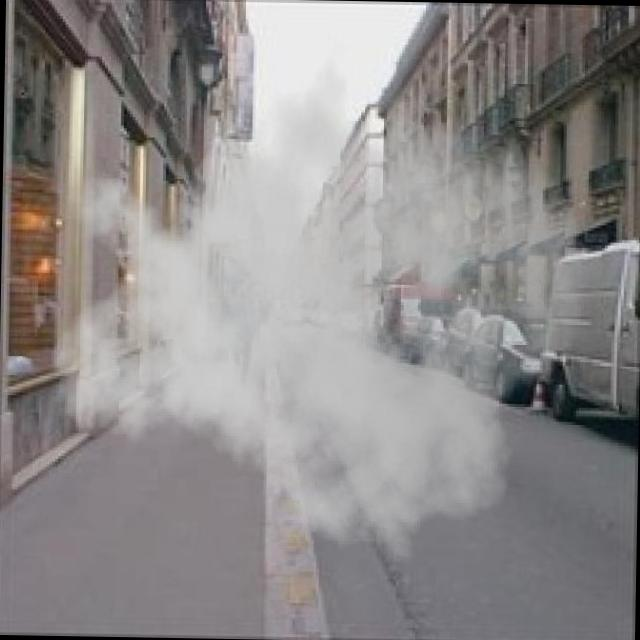Smoke: (45, 27, 591, 580)
